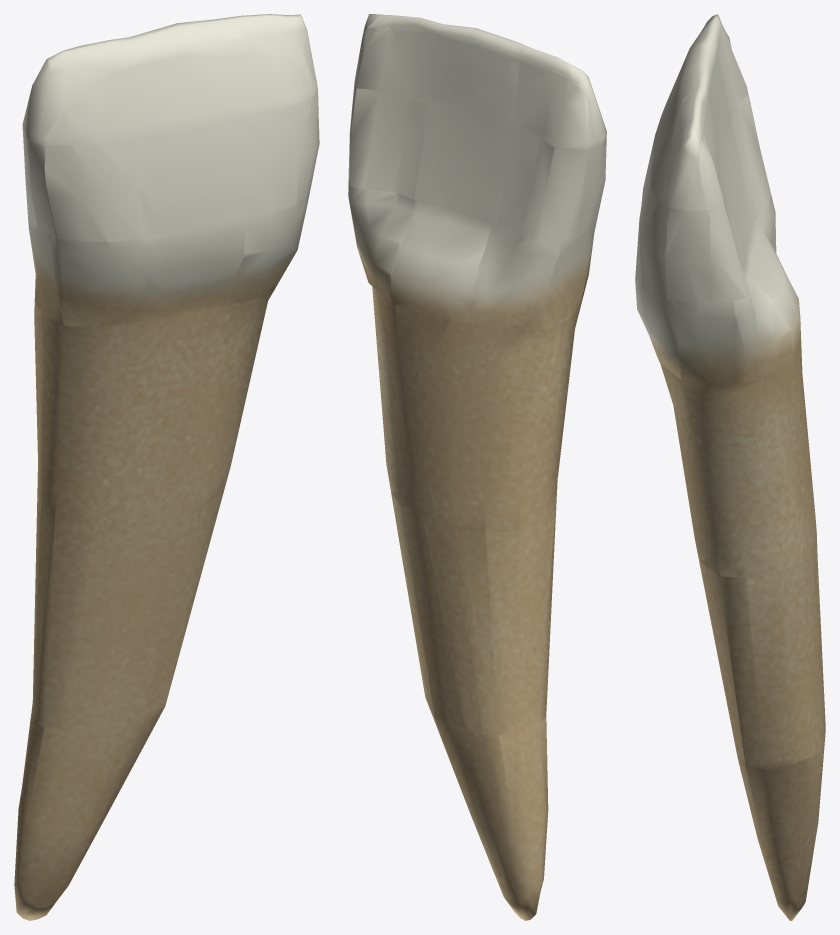
The model's file is Right_Lower_Lateral_Incisor.glb.
The picture shows the model from 3 angles, left to right: view 1: azimuth 30°, elevation 25°; view 2: azimuth 150°, elevation 25°; view 3: azimuth 270°, elevation 25°; orthographic projection. The views are drawn at different scales.
Visible parts, largest first — view 1: Human_Teeth_Lower_Lateral_Incisor; view 2: Human_Teeth_Lower_Lateral_Incisor; view 3: Human_Teeth_Lower_Lateral_Incisor.
Boxes of the visible parts, left/top/right/bottom form: Human_Teeth_Lower_Lateral_Incisor: left=14, top=14, right=319, bottom=920; Human_Teeth_Lower_Lateral_Incisor: left=348, top=14, right=606, bottom=920; Human_Teeth_Lower_Lateral_Incisor: left=635, top=14, right=825, bottom=920.
Bounding box in the file's own units: 1.04 × 3.26 × 0.6233.
30 materials, 30 textured.
